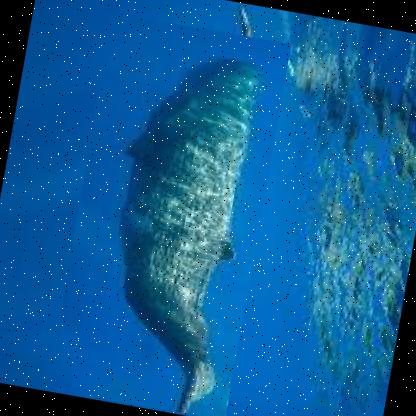blue_whale: (44, 12, 291, 415)
